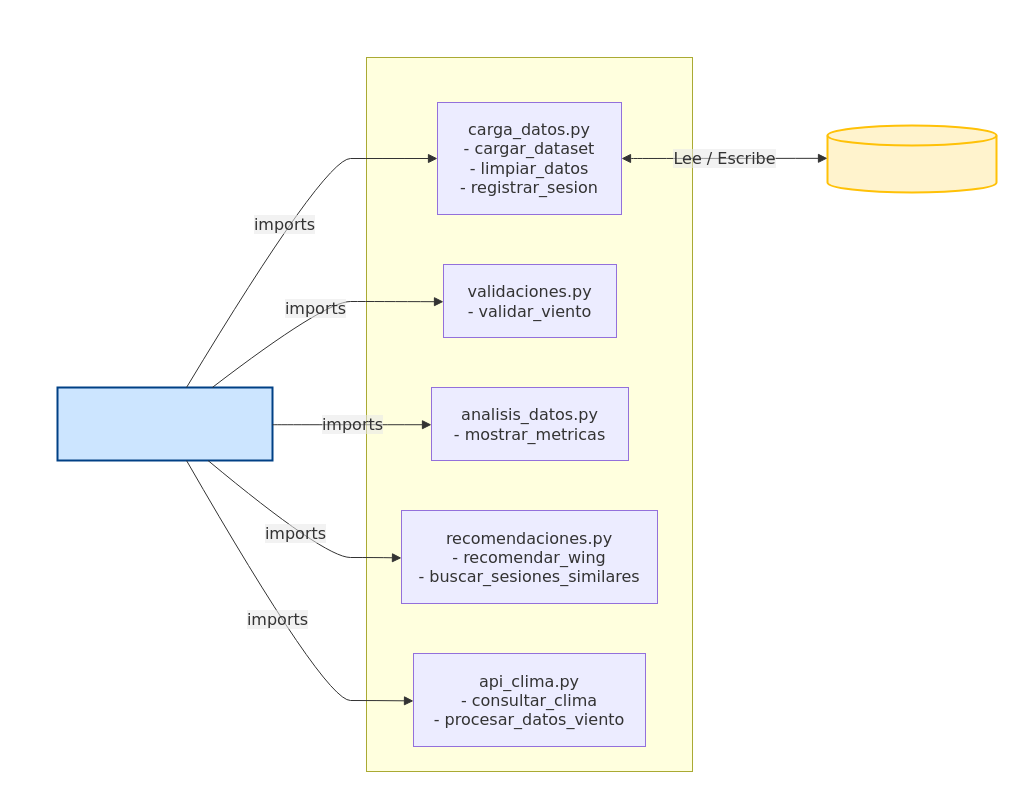
This 1016x789 diagram has some shape labels left out. The box of each missing label's shape, as (x1, y1, x2, y2) in pixels:
Carpeta: src/: (366, 56, 692, 772)
dataset_sesiones.xlsx: (826, 124, 997, 193)
main.py: (56, 386, 273, 461)
